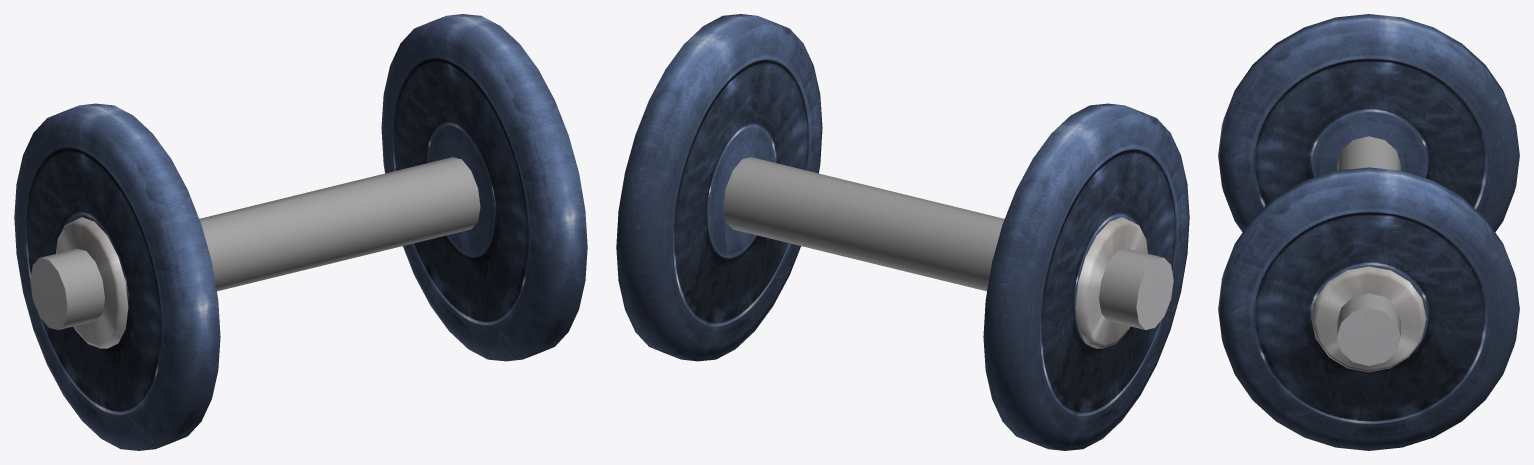
The model's file is Dumbbell04.FBX.
The picture shows the model from 3 angles, left to right: view 1: azimuth 30°, elevation 25°; view 2: azimuth 150°, elevation 25°; view 3: azimuth 270°, elevation 25°; orthographic projection. The views are drawn at different scales.
Parts seen in each view (by area): view 1: Barbell04; view 2: Barbell04; view 3: Barbell04.
Boxes of the visible parts, left/top/right/bottom form: Barbell04: left=14, top=14, right=587, bottom=450; Barbell04: left=616, top=14, right=1189, bottom=450; Barbell04: left=1218, top=14, right=1519, bottom=450.
Size of the model in its own units: 481 by 292 by 292.
